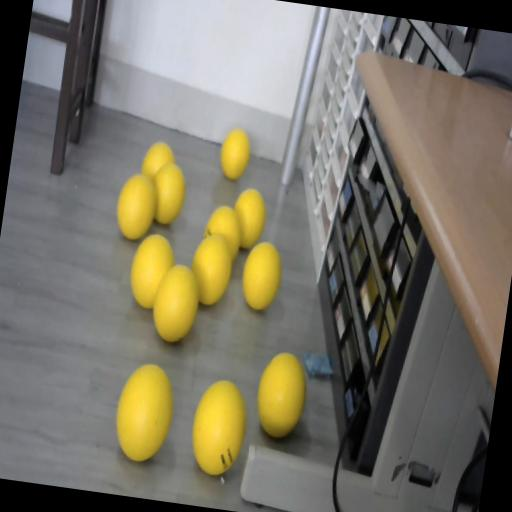FUEL: (110, 359, 178, 465), (185, 374, 253, 478), (252, 349, 311, 441), (126, 230, 178, 310), (186, 231, 237, 308), (238, 238, 286, 312), (112, 171, 160, 242), (148, 160, 190, 228), (228, 186, 270, 251), (217, 126, 253, 180)
